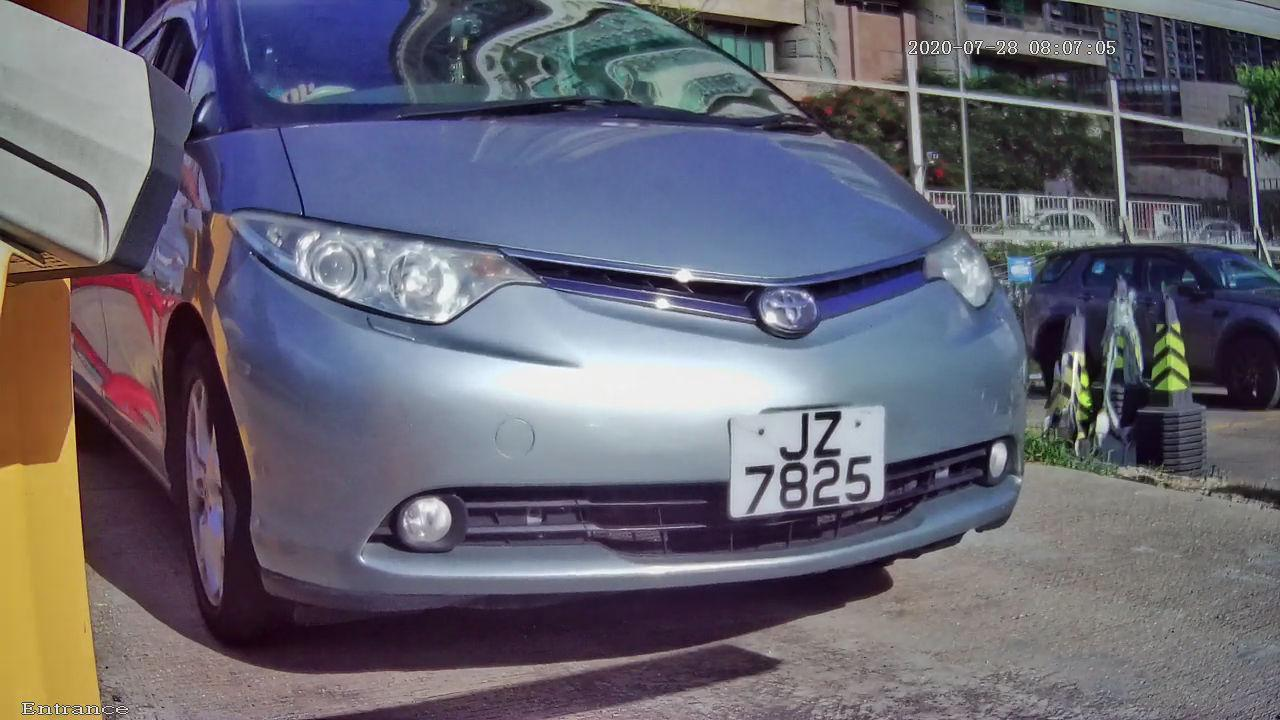privatecar: (52, 7, 1132, 682)
